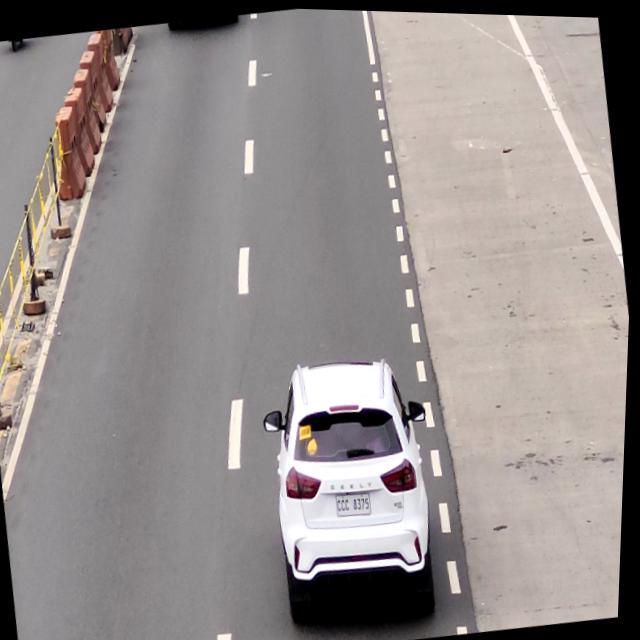Car: (260, 345, 452, 624)
License-Plate: (336, 484, 378, 521)
